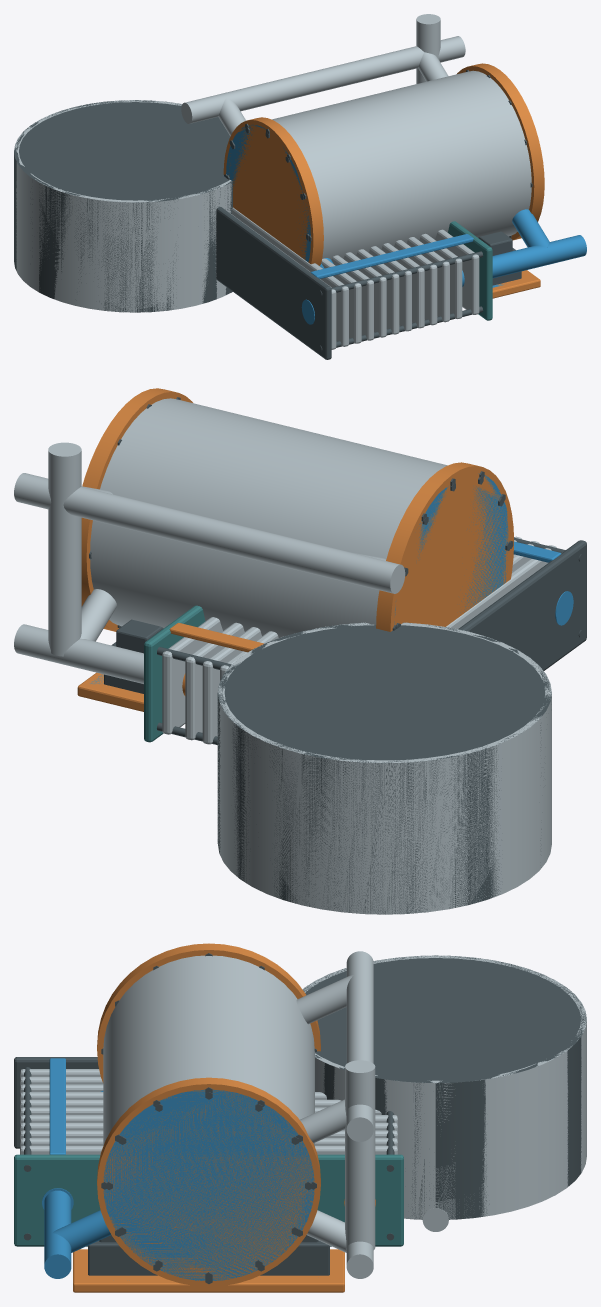
Rendered from chemical_equipment.glb.
3 views of the same model, one above another, from view 1: azimuth 30°, elevation 25°; view 2: azimuth 150°, elevation 25°; view 3: azimuth 270°, elevation 25° (orthographic). The views are drawn at different scales.
Visible parts, largest first — view 1: reboiler, plinth, heat_exchanger, open_shell, condenser; view 2: reboiler, plinth, open_shell, heat_exchanger, condenser; view 3: reboiler, condenser, plinth, open_shell, heat_exchanger, pipe_shaft.
Boxes of the visible parts, x1,y1,x2,y2 form: reboiler: [223, 14, 544, 298]; plinth: [14, 100, 232, 312]; heat_exchanger: [216, 207, 492, 359]; open_shell: [14, 100, 231, 312]; condenser: [181, 36, 586, 321]; reboiler: [14, 388, 513, 711]; plinth: [217, 622, 551, 914]; open_shell: [217, 622, 551, 914]; heat_exchanger: [144, 536, 586, 744]; condenser: [14, 473, 567, 683]; reboiler: [73, 943, 375, 1292]; condenser: [44, 951, 373, 1280]; plinth: [303, 955, 586, 1219]; open_shell: [302, 955, 586, 1219]; heat_exchanger: [14, 1057, 403, 1246]; pipe_shaft: [422, 1208, 448, 1231].
Bounding box in the file's own units: 3.8 × 1.94 × 3.79.
